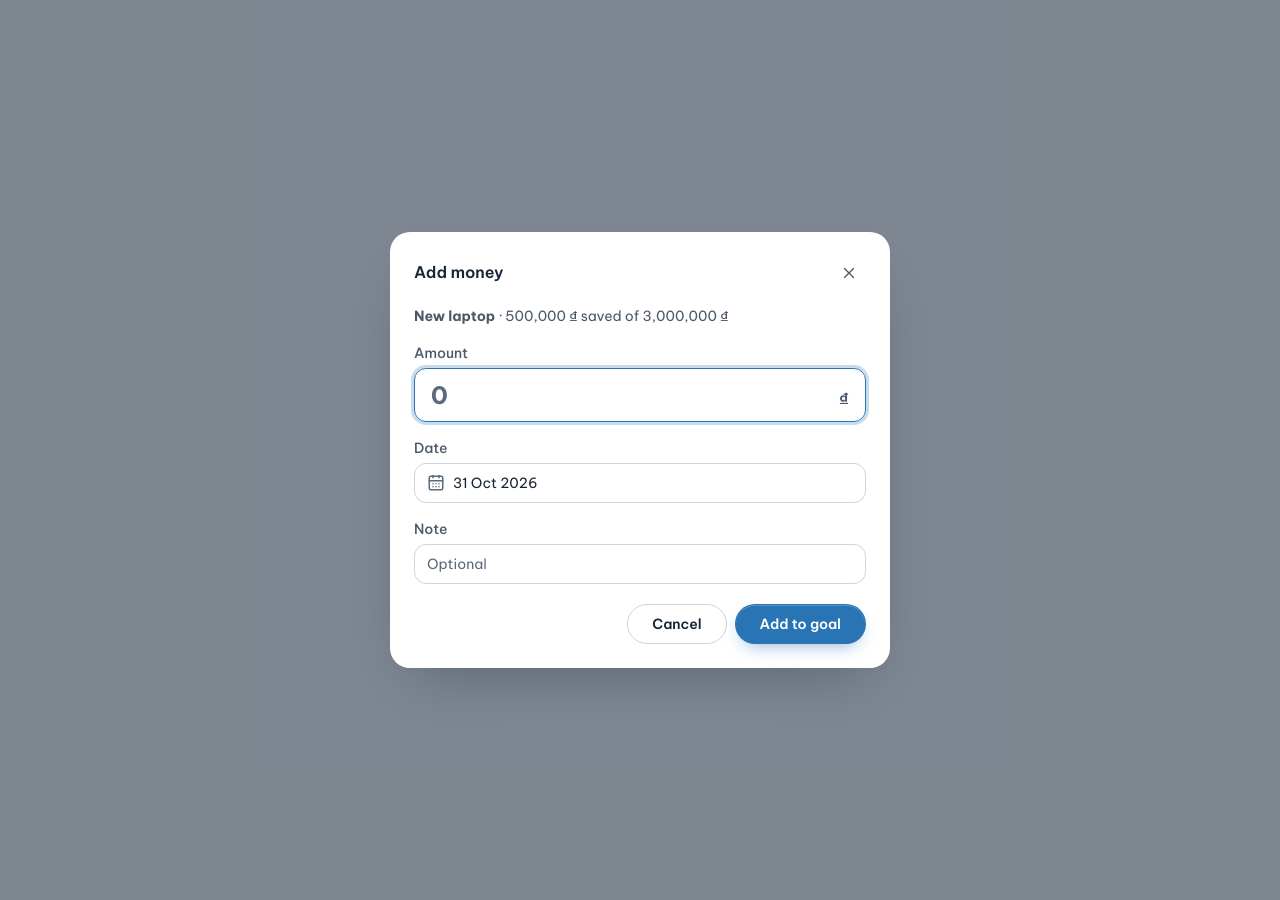
Scenario: MoneyDialog › refuses an empty amount
Click the button "Add to goal" at (800, 624), box [735, 604, 866, 644]
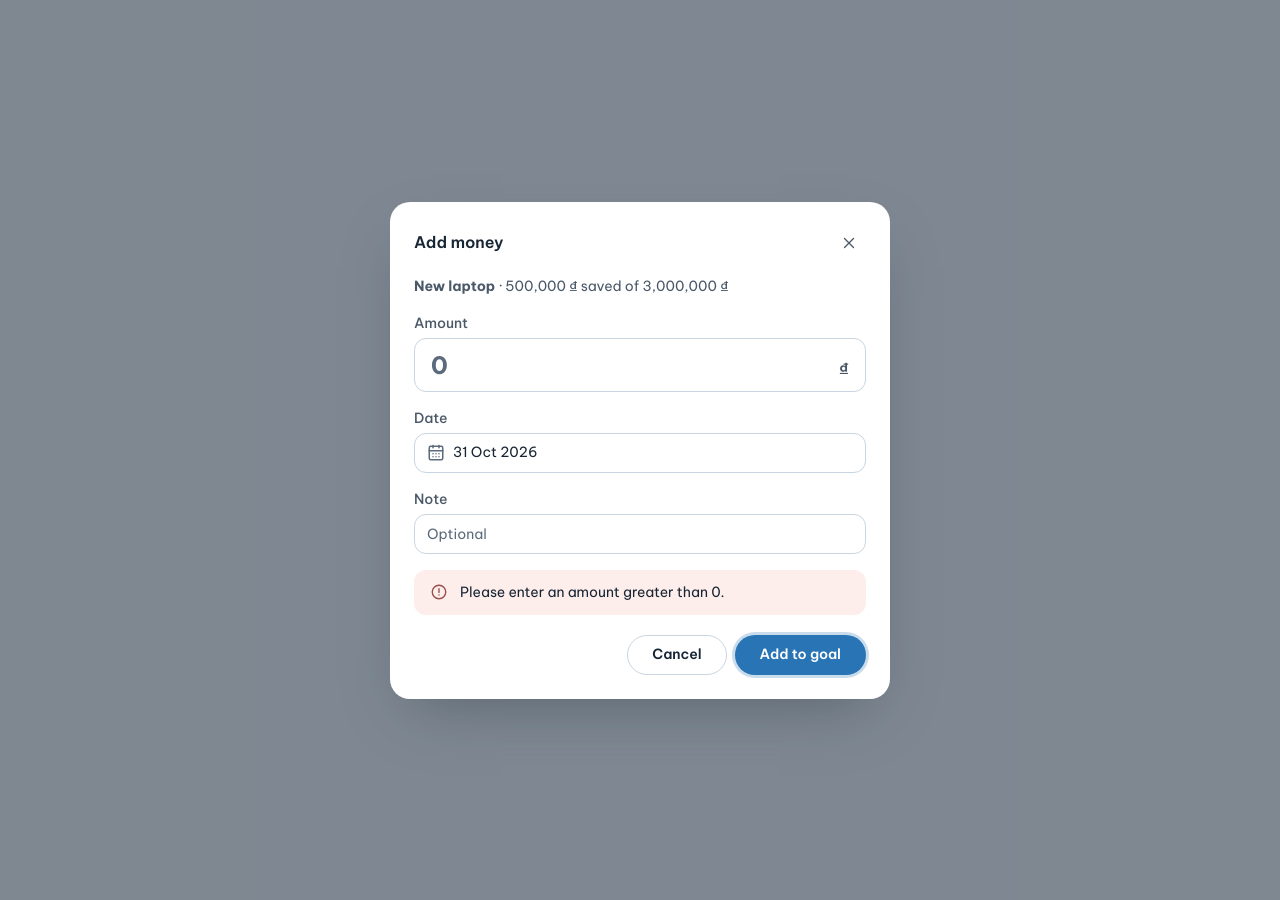
Now the text "Please enter an amount greater than 0." is shown, box [460, 582, 725, 602]
